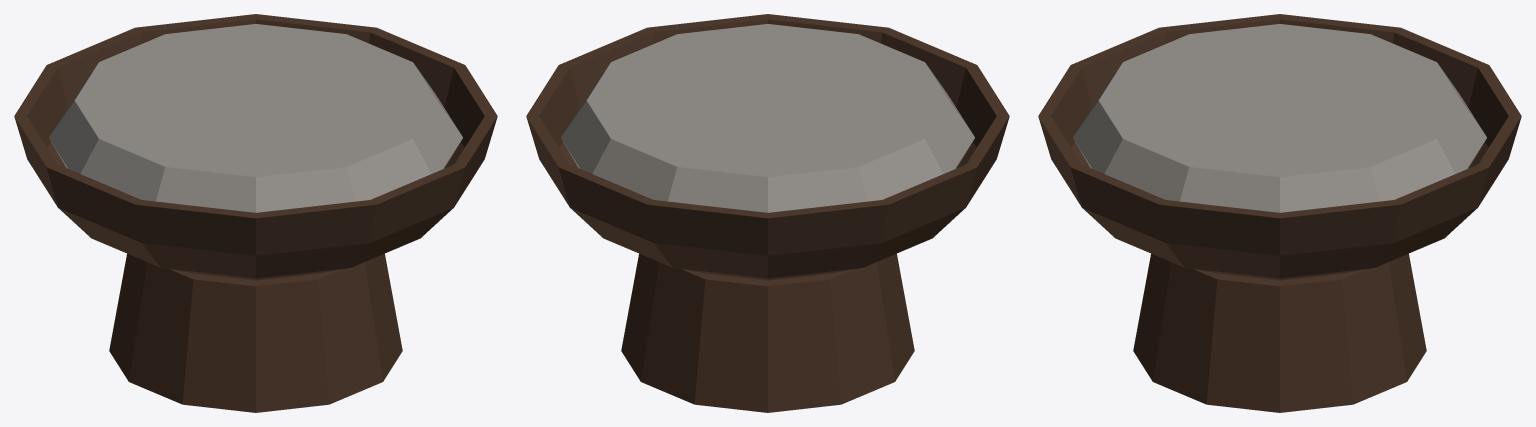
Rendered from FN_Chair_Papasan.obj.
The picture shows the model from 3 angles, left to right: view 1: azimuth 30°, elevation 25°; view 2: azimuth 150°, elevation 25°; view 3: azimuth 270°, elevation 25°; orthographic projection.
Visible parts, largest first — view 1: FN_Chair_Papasan; view 2: FN_Chair_Papasan; view 3: FN_Chair_Papasan.
Boxes of the visible parts, bbox=[...] form: FN_Chair_Papasan: bbox=[14, 14, 497, 412]; FN_Chair_Papasan: bbox=[526, 14, 1009, 412]; FN_Chair_Papasan: bbox=[1038, 14, 1521, 412].
Size of the model in its own units: 1.12 by 0.64 by 1.12.
1 material, 1 textured.
